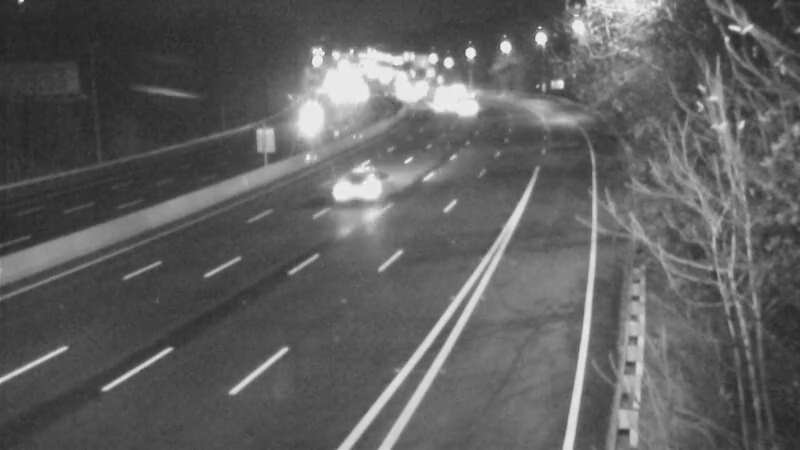vehicle: (326, 145, 406, 225), (442, 80, 492, 130), (276, 91, 326, 141)
